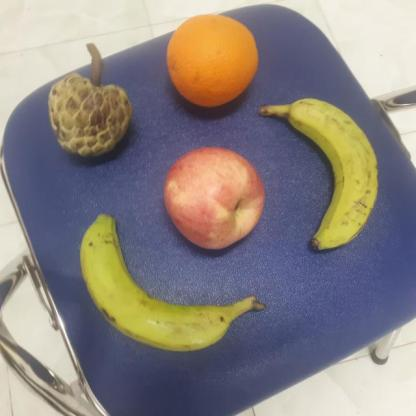annona: (45, 70, 138, 164)
apple: (156, 142, 270, 258)
banana: (72, 210, 265, 348), (259, 92, 383, 254)
orange: (165, 13, 262, 109)
